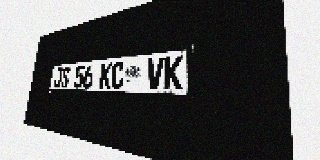5: (73, 65, 85, 88)
6: (82, 64, 95, 88)
C: (110, 61, 125, 89)
J: (53, 67, 63, 88)
K: (163, 55, 183, 90), (99, 62, 113, 89)
S: (60, 67, 70, 88)
V: (146, 57, 164, 90)
